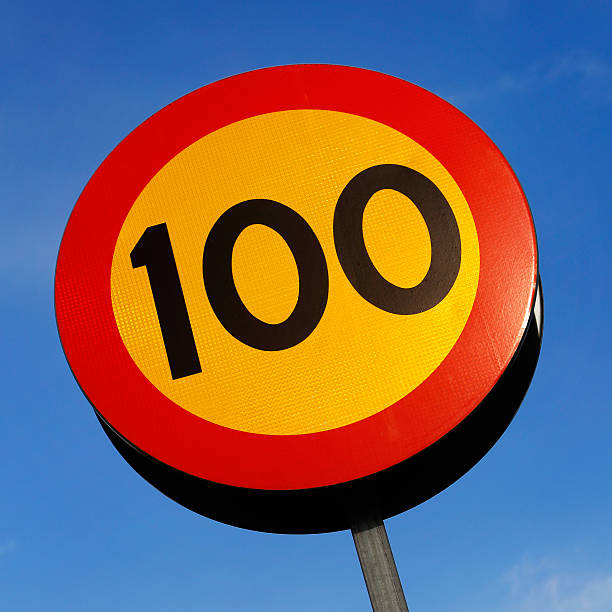Speed_limit_100km: (54, 63, 539, 489)
